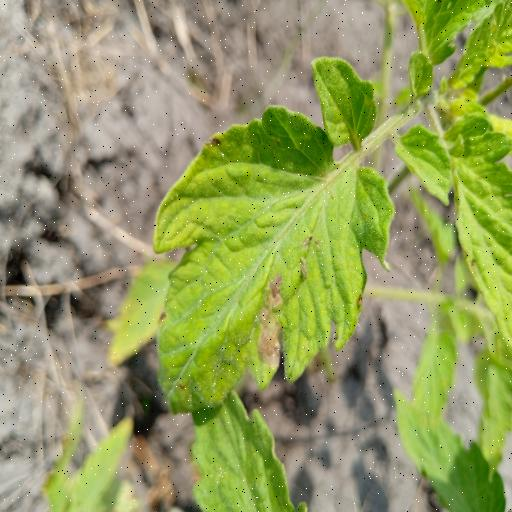Tomato_Brown_Spots: (150, 53, 394, 422)
